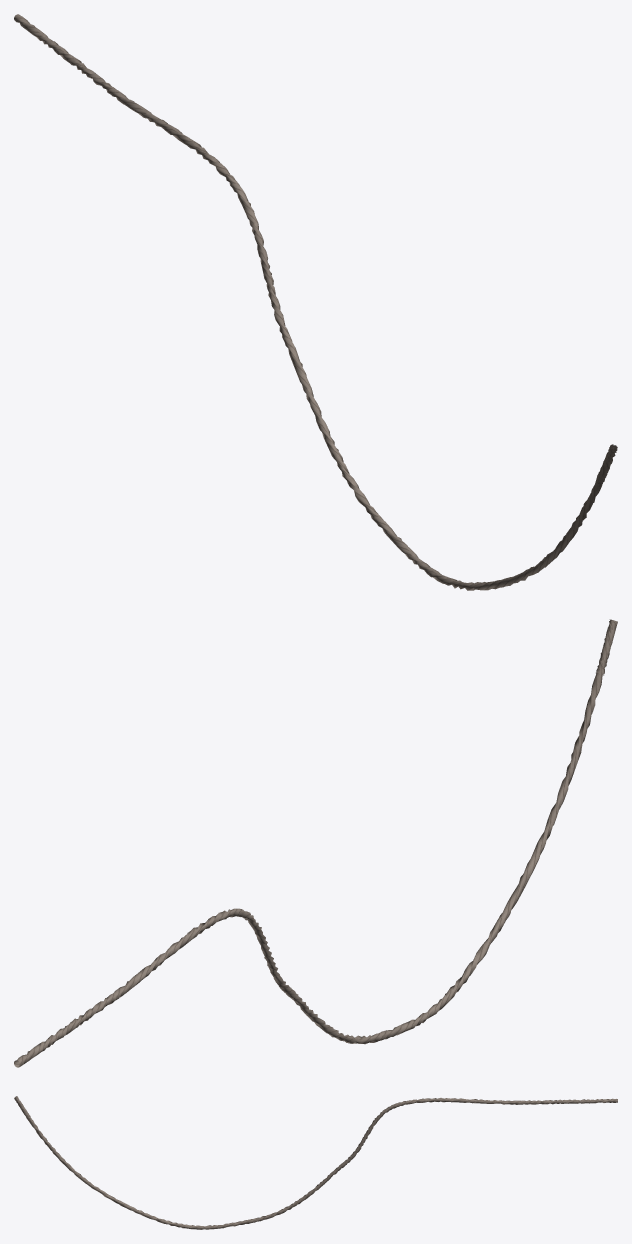
File: SM_RopeSplineMesh_Splines_10.fbx
The picture shows the model from 3 angles, top to bottom: view 1: azimuth 30°, elevation 25°; view 2: azimuth 150°, elevation 25°; view 3: azimuth 270°, elevation 25°; orthographic projection. The views are drawn at different scales.
Parts seen in each view (by area): view 1: SM_RopeSplineMesh_Splines_10; view 2: SM_RopeSplineMesh_Splines_10; view 3: SM_RopeSplineMesh_Splines_10.
Part boxes in pixels (x1,y1,x2,y2): SM_RopeSplineMesh_Splines_10: (14, 14, 617, 590); SM_RopeSplineMesh_Splines_10: (14, 619, 617, 1067); SM_RopeSplineMesh_Splines_10: (14, 1096, 617, 1229).
Size of the model in its own units: 2.63 by 339 by 82.38.
